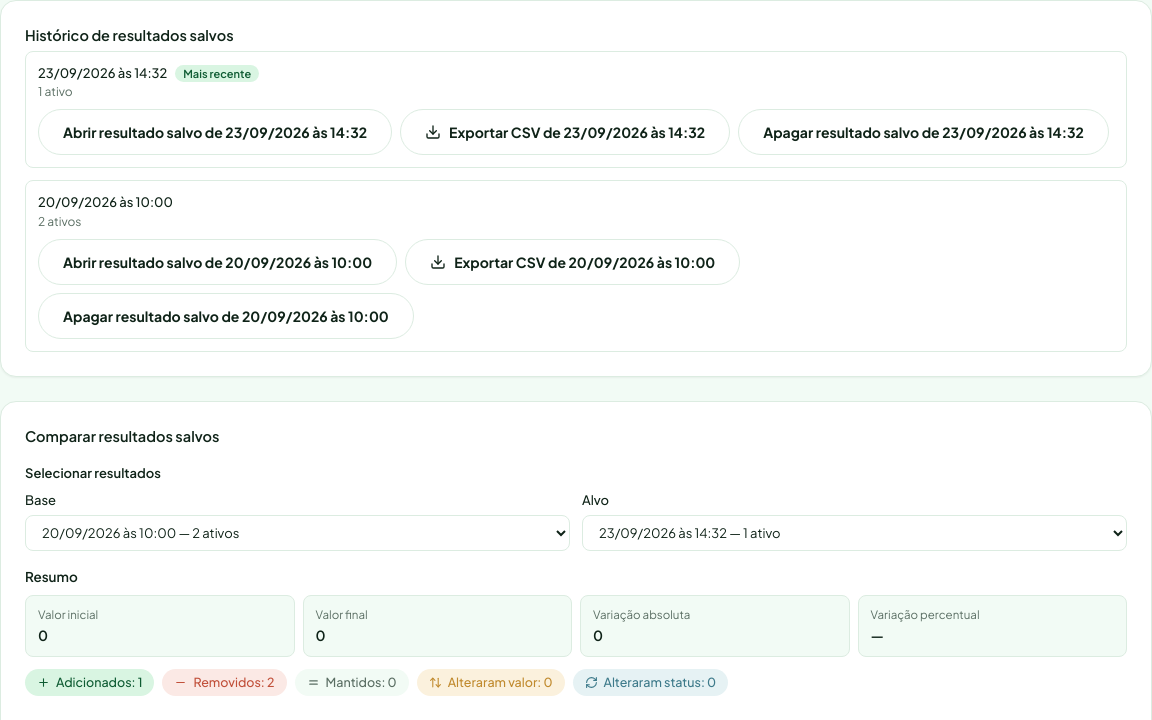
Test: apagar a specific entry › asks for confirmation, then DELETEs that id and removes it from the list
Click the button "Apagar resultado salvo de 20/09/2026 às 10:00": (226, 316) [38, 293, 414, 339]
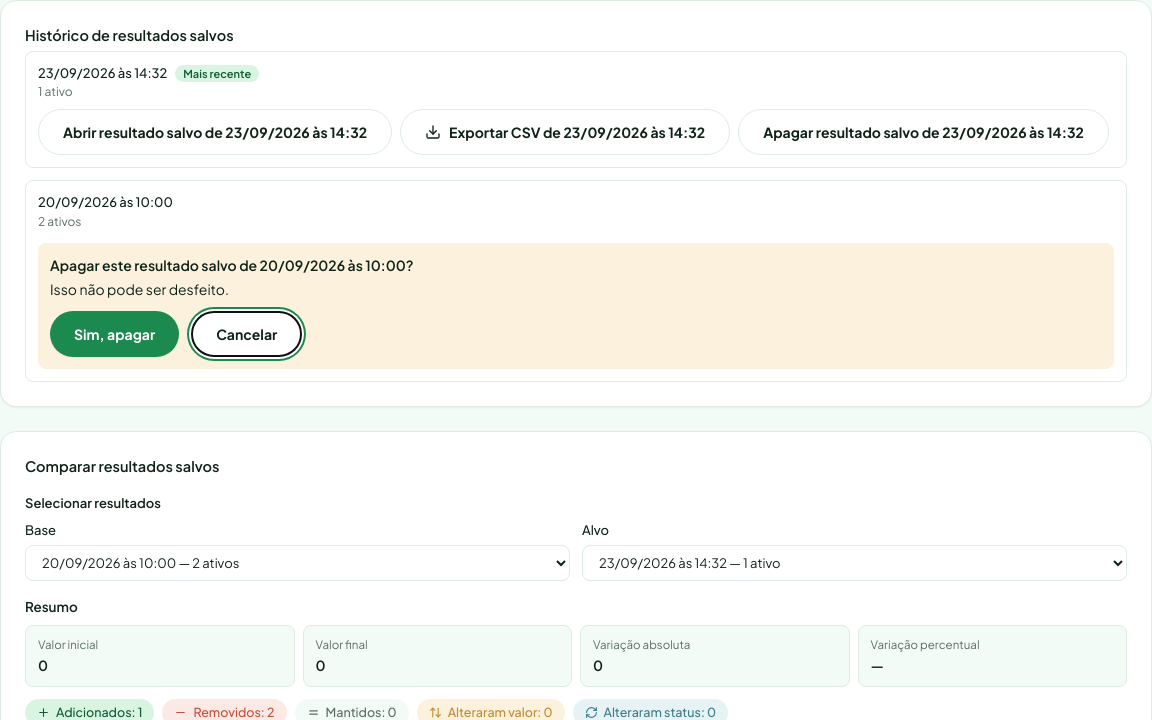
Click the button "Sim, apagar": (115, 334) [50, 311, 179, 357]
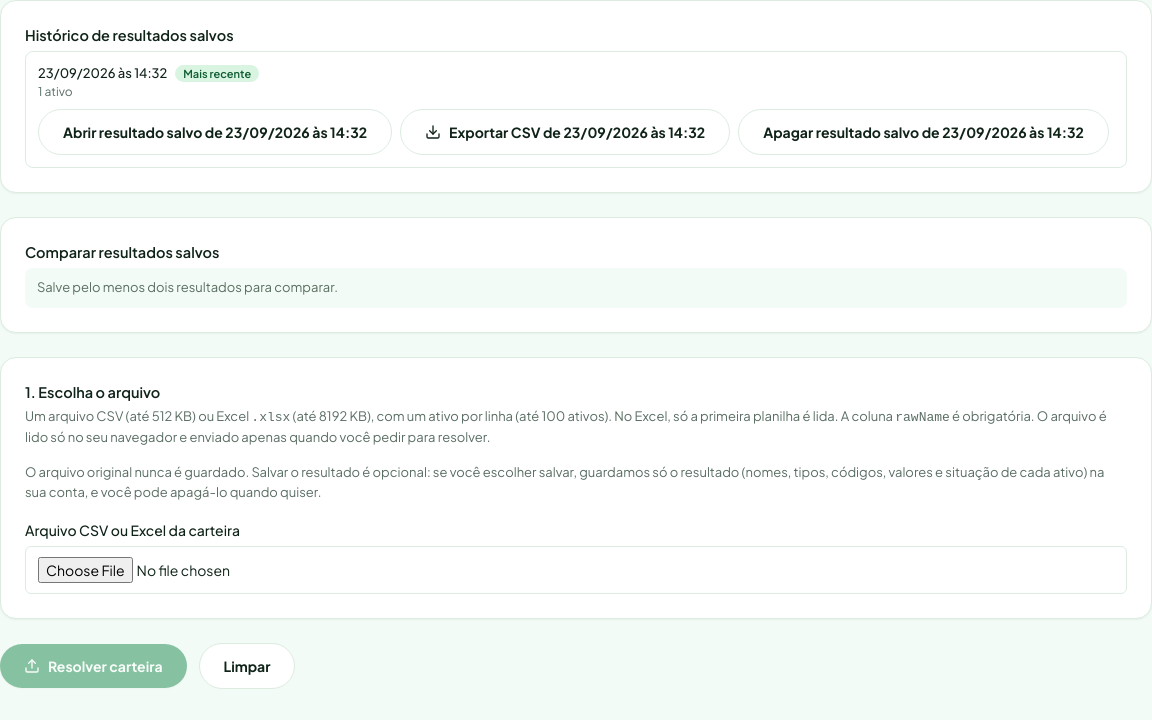
Expected: the number of list items is 1, [25, 51, 1127, 168]
